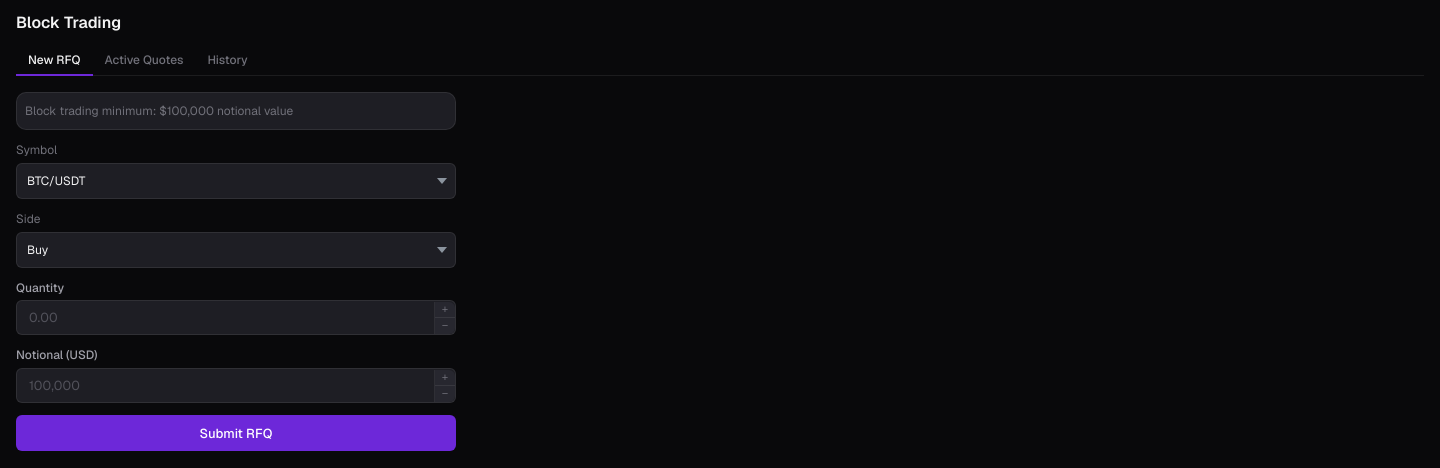
BlockTradePage › quote list shows Execute button for pending quotes
# Navigate to Active Quotes tab
Click the tab "Active Quotes". click: click(144, 61)
box: left=92, top=46, right=195, bottom=76
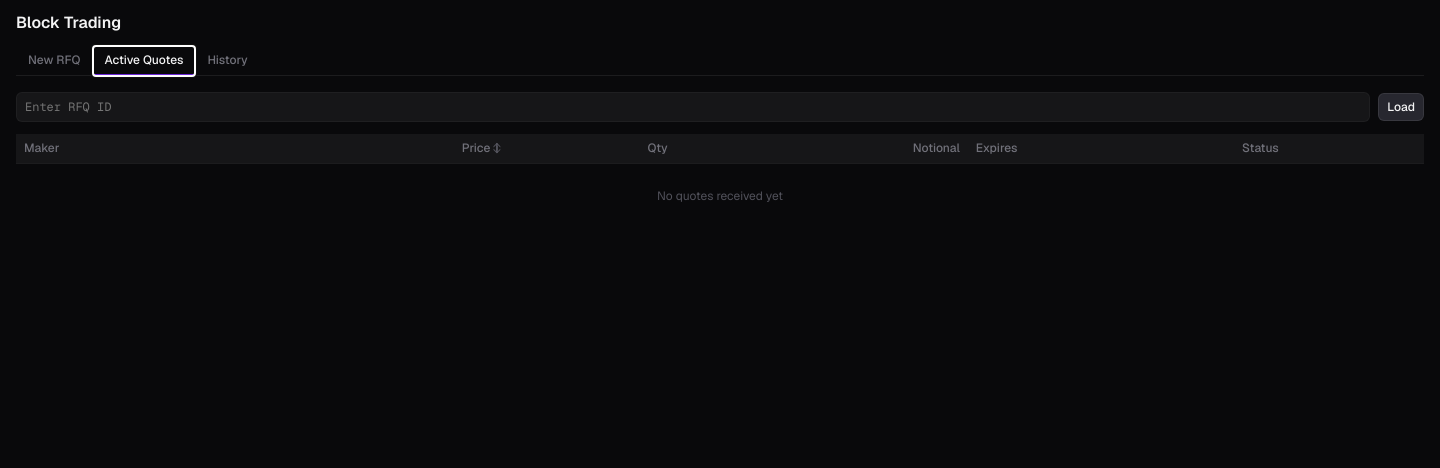
# Type an RFQ ID and click Load to trigger fetch
Type "rfq-1" into the field with placeholder "Enter RFQ ID". click: (693, 107)
box: left=16, top=92, right=1370, bottom=122
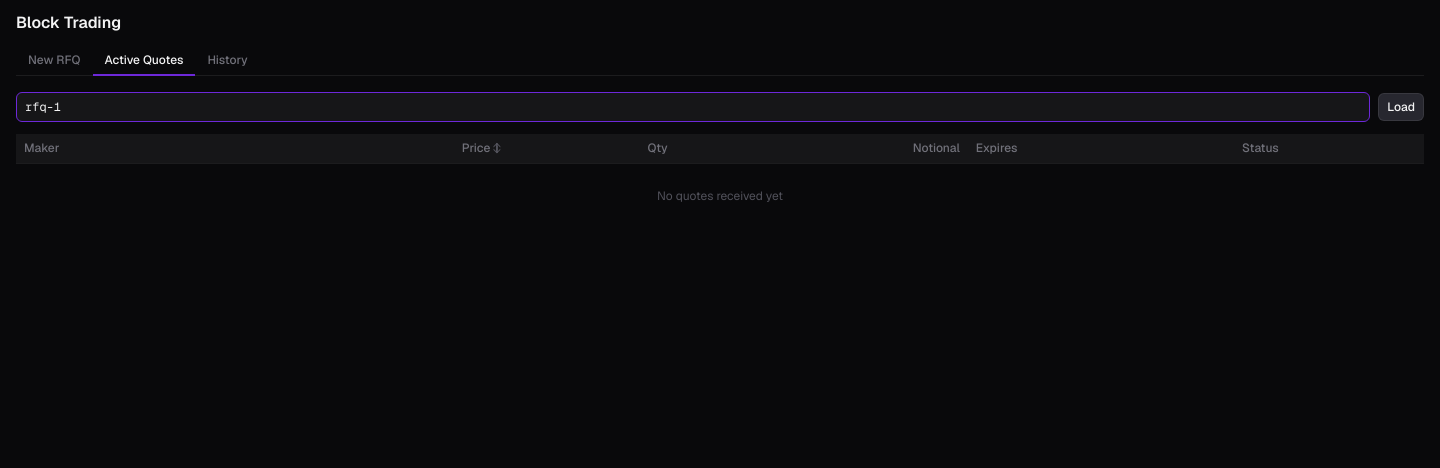
Click the button "Load". click: click(1401, 107)
box: left=1378, top=93, right=1424, bottom=121
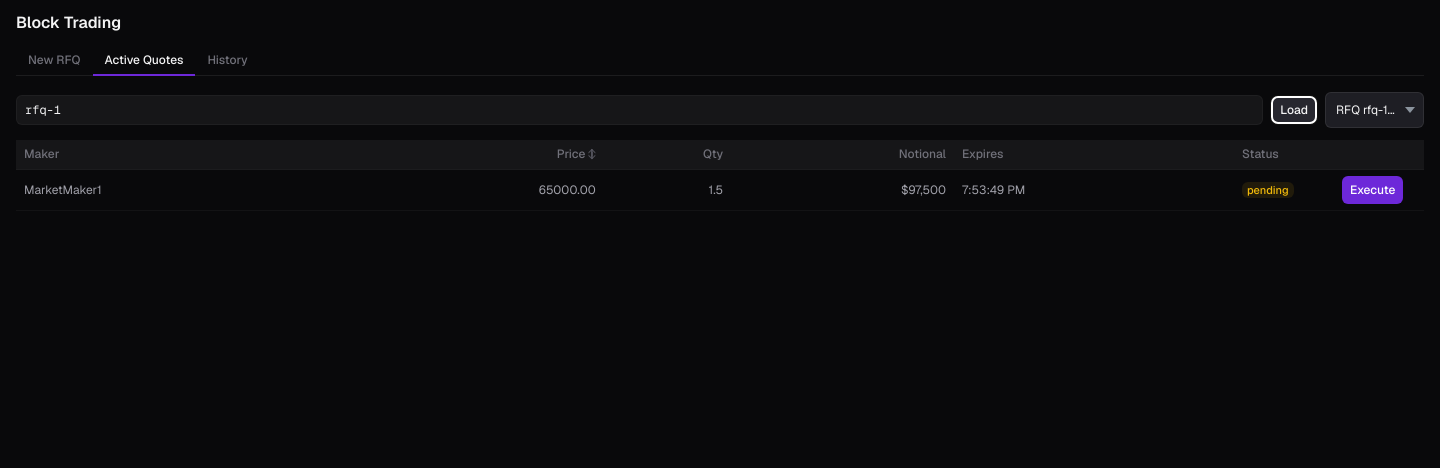
Expected: the button "Execute" is shown, left=1342, top=176, right=1403, bottom=204
